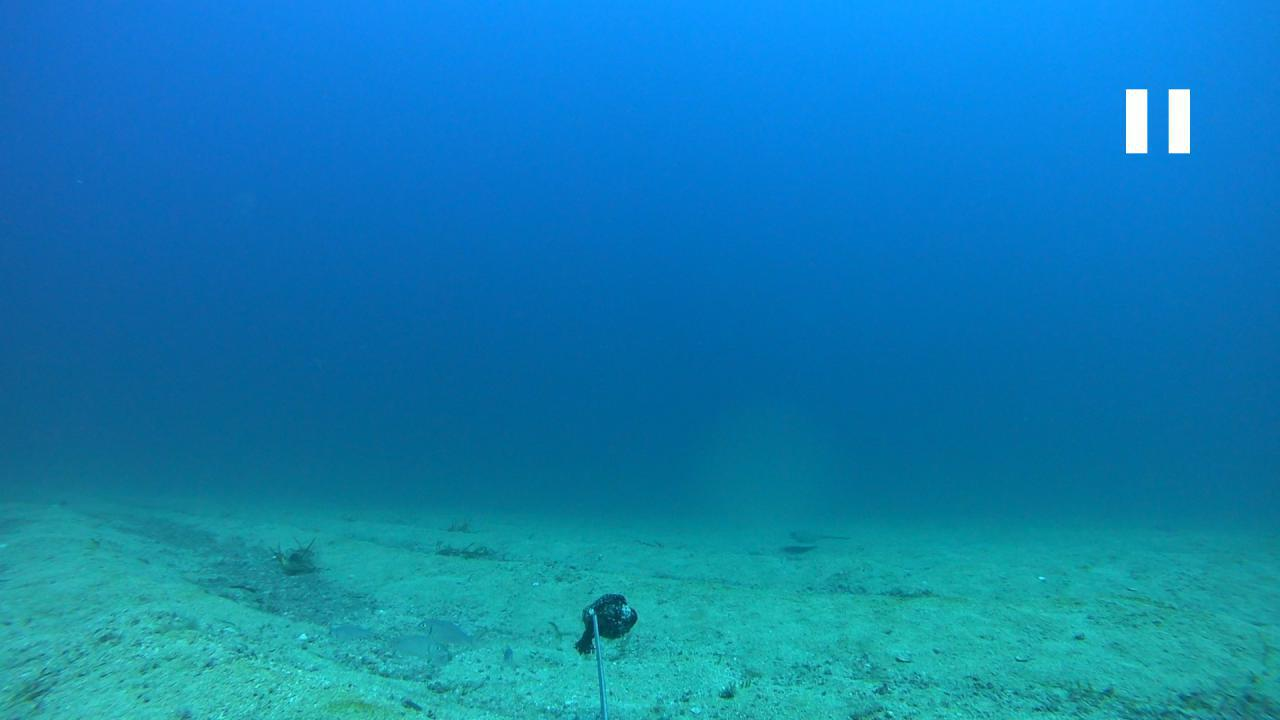dasyatis: (784, 526, 850, 546)
pagellus: (376, 629, 455, 662), (416, 611, 479, 650), (322, 620, 384, 646)
